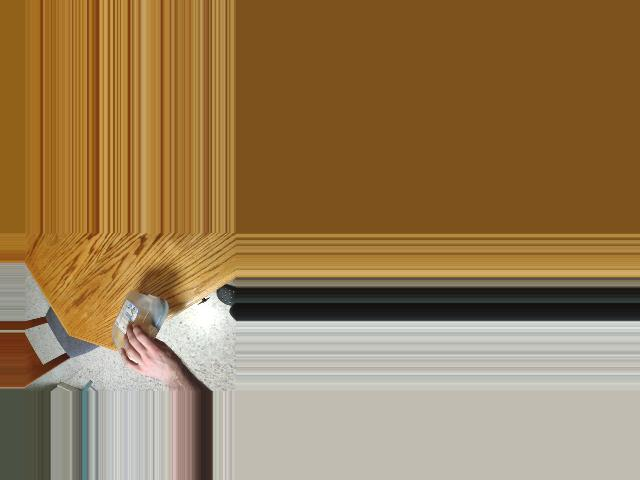cheese: (120, 294, 162, 353)
